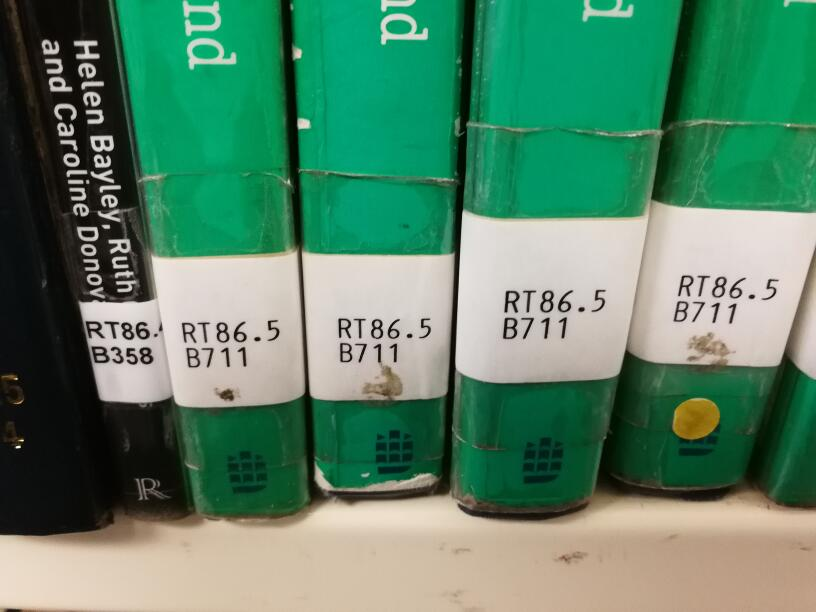booklabel: (499, 285, 607, 341), (672, 271, 780, 326), (179, 317, 282, 371), (335, 314, 434, 365), (82, 315, 164, 367)
